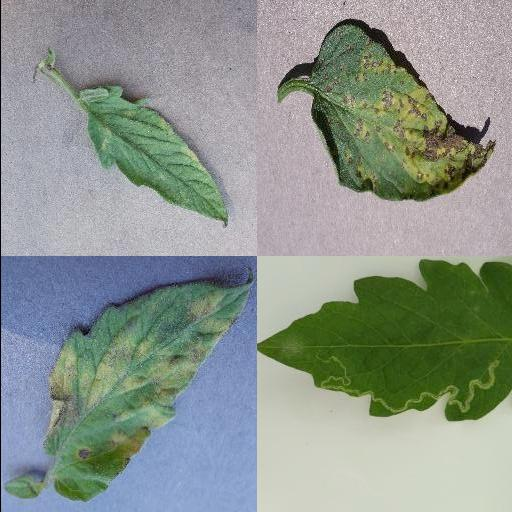Leaf Miner: (256, 259, 512, 424)
Leaf Mold: (42, 282, 252, 502), (74, 86, 228, 226)
Septoria: (309, 26, 497, 203)
